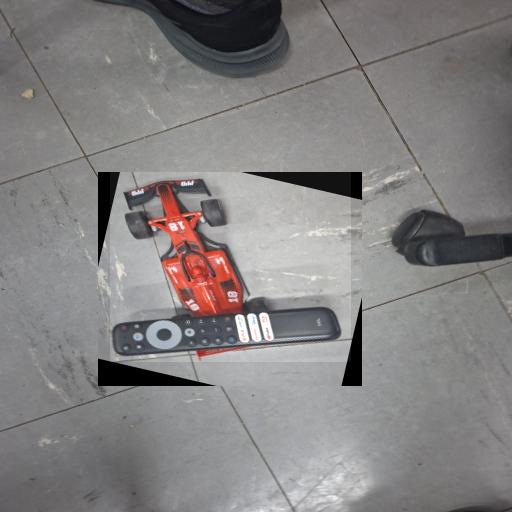carro: (110, 172, 351, 362)
